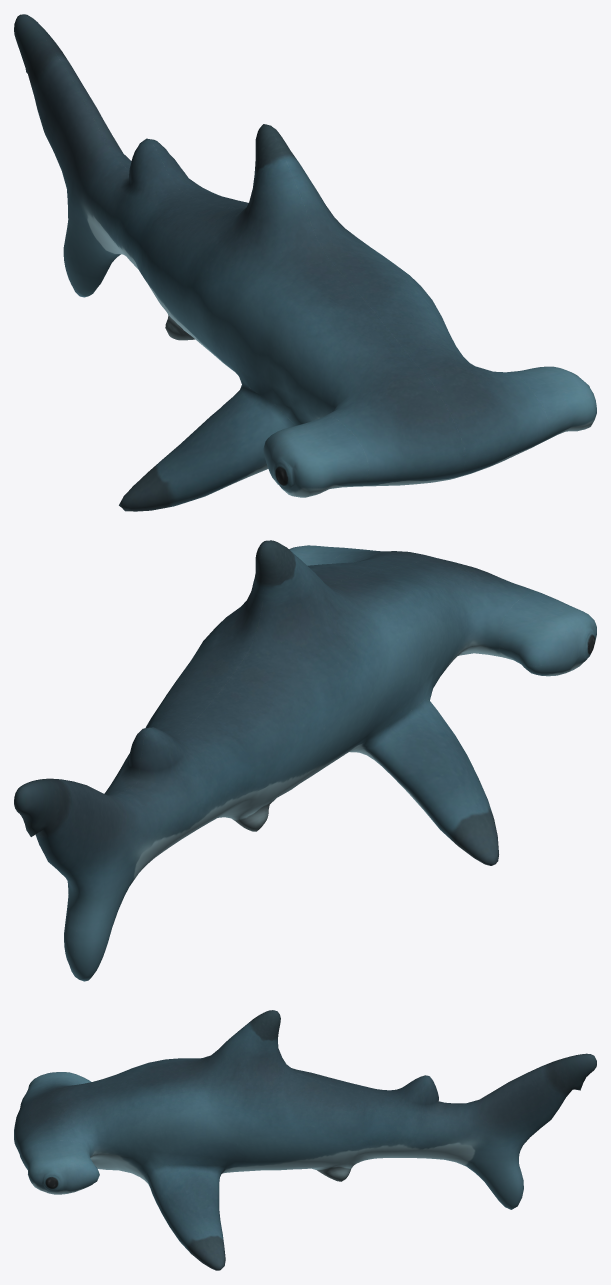
File: pelucheTiburon.obj
3 renders of one model, top to bottom at view 1: azimuth 30°, elevation 25°; view 2: azimuth 150°, elevation 25°; view 3: azimuth 270°, elevation 25°, orthographic. The views are drawn at different scales.
Visible parts, largest first — view 1: pelucheTiburon1:_Hammerhead_Shark_v1; view 2: pelucheTiburon1:_Hammerhead_Shark_v1; view 3: pelucheTiburon1:_Hammerhead_Shark_v1.
Boxes of the visible parts, box(x1,y1,x2,y2) form: pelucheTiburon1:_Hammerhead_Shark_v1: box(14, 14, 596, 511); pelucheTiburon1:_Hammerhead_Shark_v1: box(14, 540, 596, 981); pelucheTiburon1:_Hammerhead_Shark_v1: box(14, 1010, 596, 1270).
Size of the model in its own units: 4.14 by 3.26 by 8.52.
Materials: 1 (1 with a texture image).
